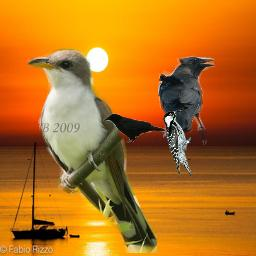Crow: (158, 54, 215, 146), (102, 112, 165, 143)
Cuckoo: (27, 47, 157, 253)
Woodpecker: (163, 108, 191, 176)
